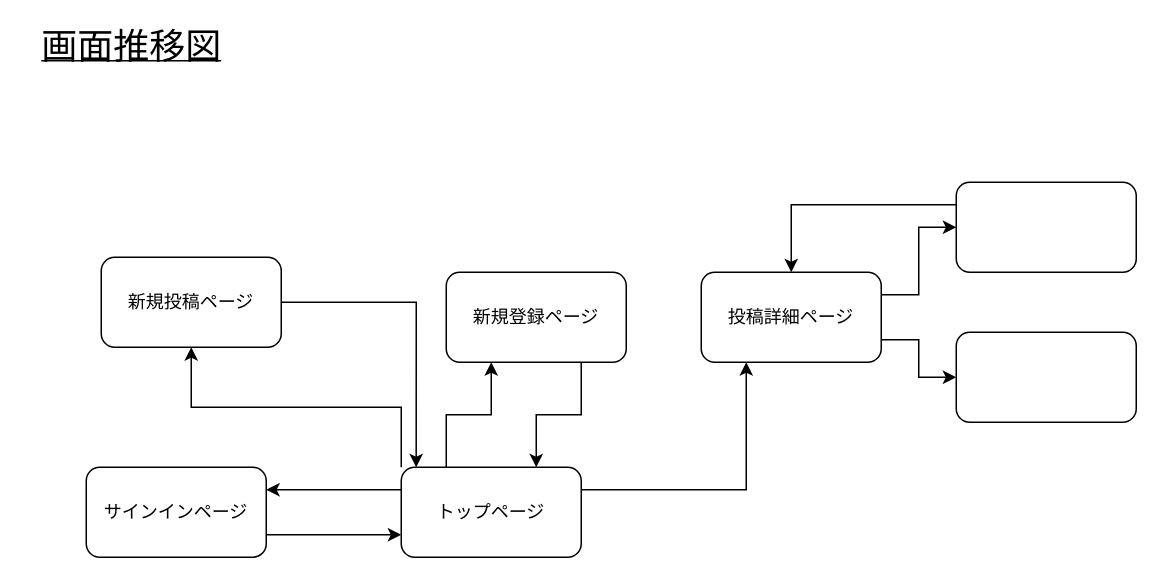
This 1163x584 diagram has some shape labels left out. The centre of each missing label's shape, as x and y in pixels:
投稿削除ページ: pixel 1045 376
投稿編集ページ: pixel 1045 226
